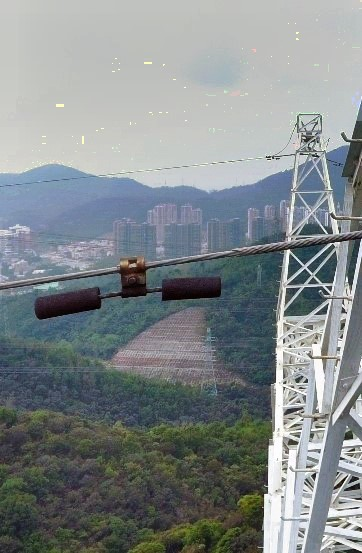Shockproof hammer: (31, 248, 229, 327)
